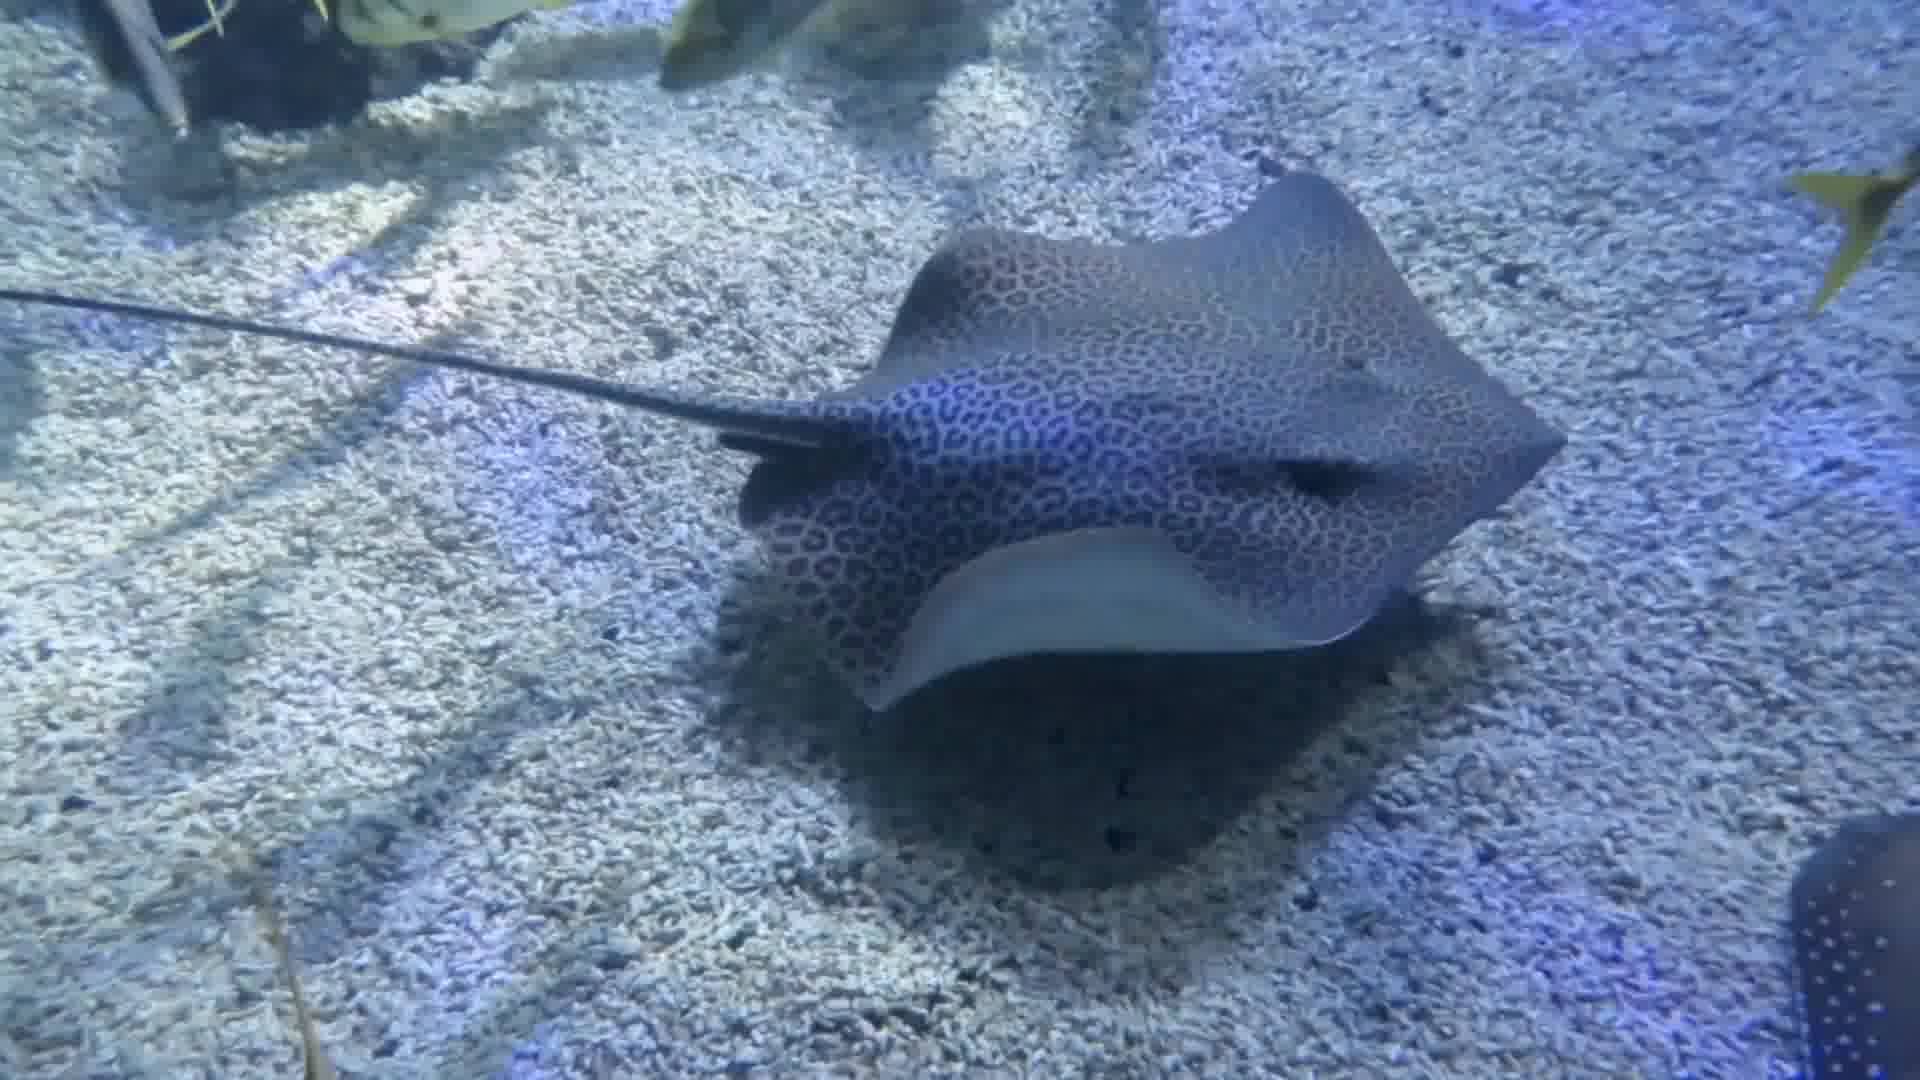Himantura uarnak: (1, 107, 1619, 767)
